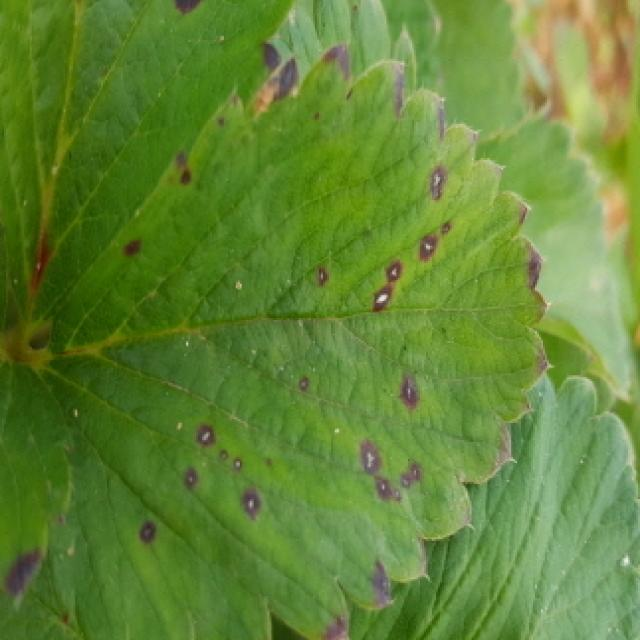Leaf Spot: (26, 40, 554, 640)
